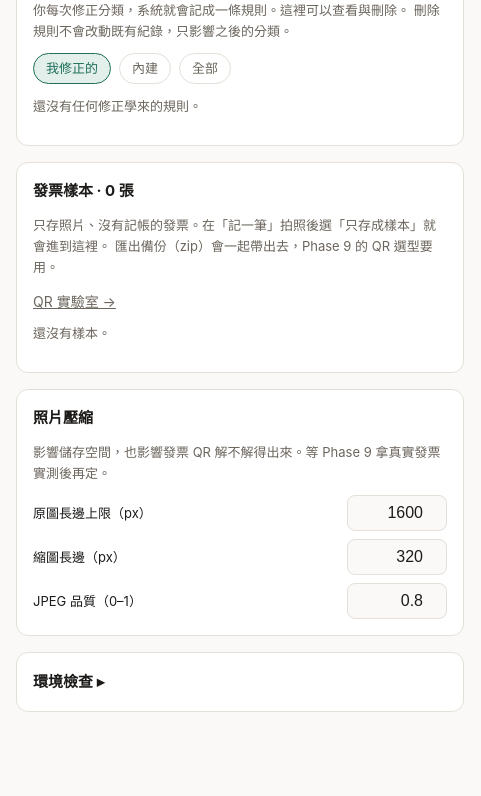
Test case: 設定頁：既有行為 › 刪除樣本
(page scrolled)
Step 1. Click the button "環境檢查 ▸" → (69, 682), box x1=33 y1=670 x2=104 y2=694
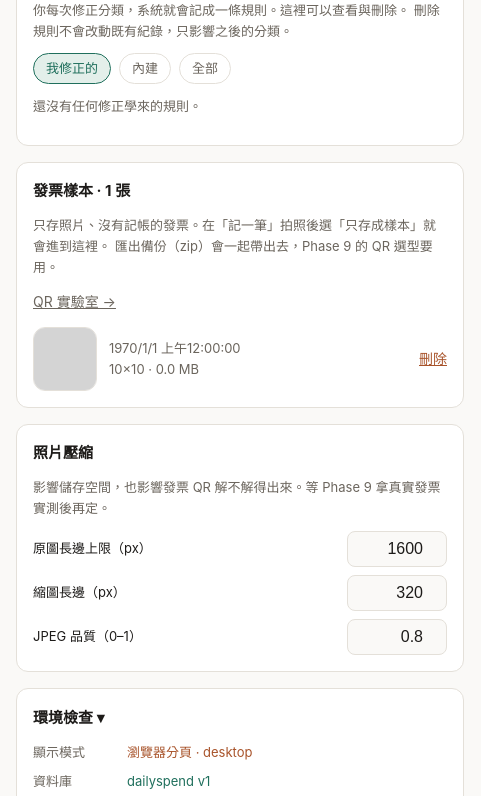
Expected: the text "dailyspend v1" is shown, x1=127 y1=773 x2=210 y2=789
Expected: the text "發票樣本 · 1 張" is shown, x1=33 y1=181 x2=130 y2=200
Step 2. Click the button "刪除" → (433, 359), box x1=419 y1=348 x2=447 y2=370
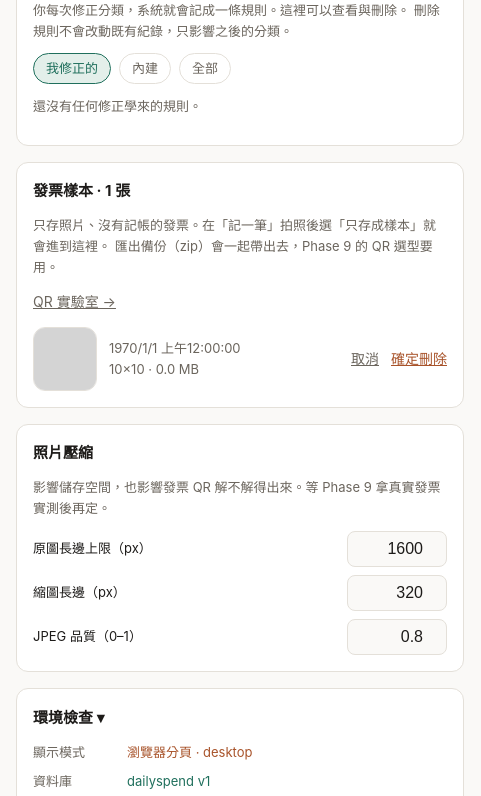
Step 3. Click the button "確定刪除" → (419, 359), box x1=391 y1=348 x2=447 y2=370
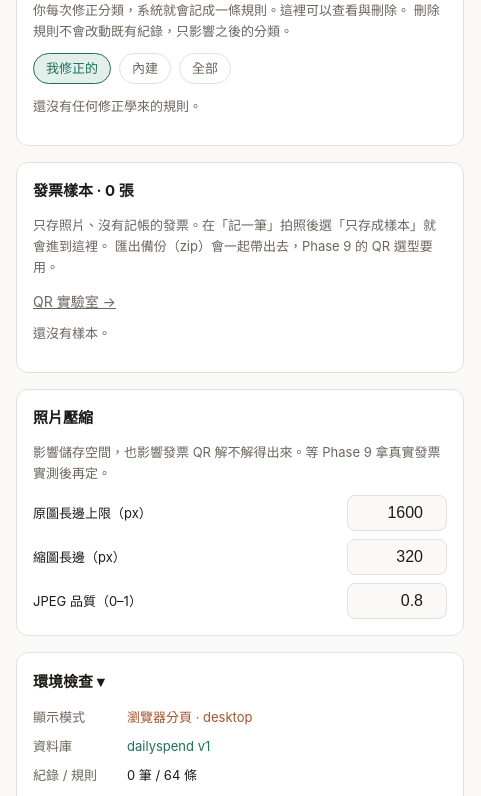
Expected: the text "發票樣本 · 0 張" is shown, x1=33 y1=181 x2=134 y2=200
Expected: the text "還沒有樣本。" is shown, x1=33 y1=325 x2=111 y2=341
